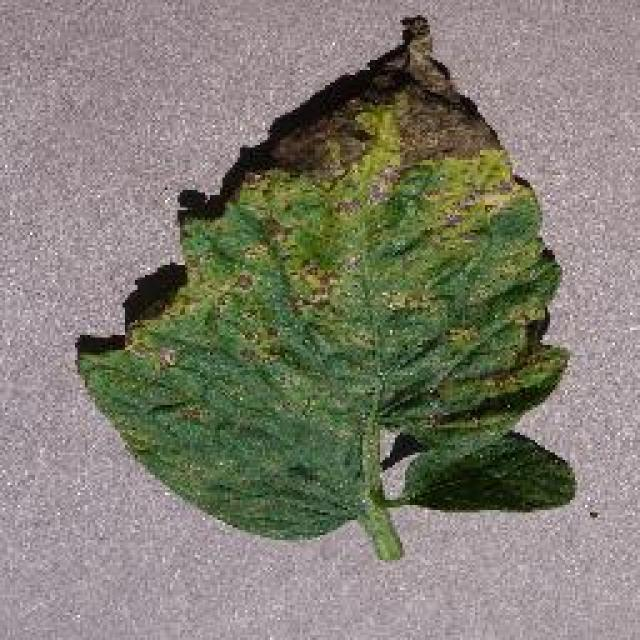Tomato___Septoria_leaf_spot: (78, 15, 572, 558)
